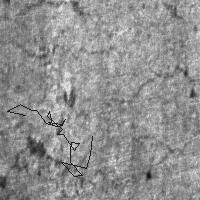crazing: (2, 129, 192, 194), (2, 1, 121, 58), (7, 104, 92, 176), (101, 62, 199, 106)
